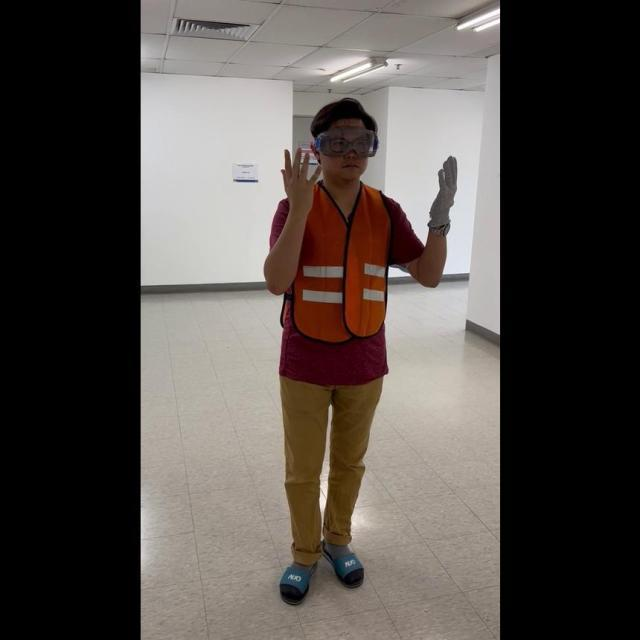bare_hand: (278, 139, 316, 215)
gloved_hand: (423, 152, 459, 236)
